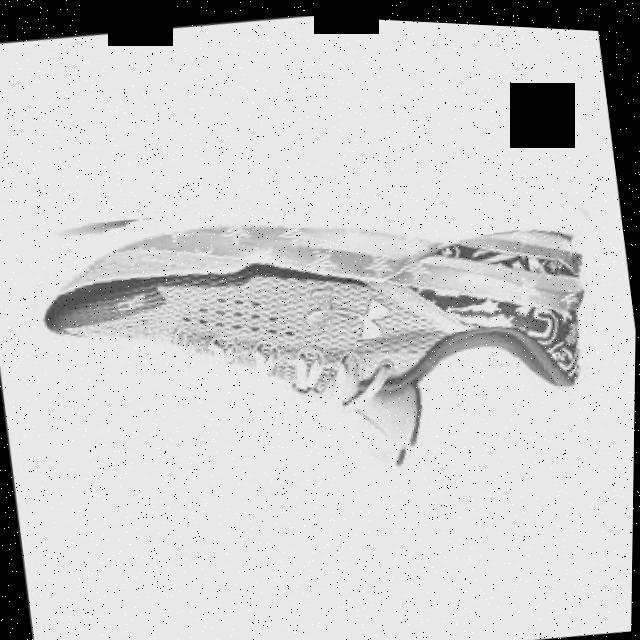shoe: (12, 150, 624, 522)
